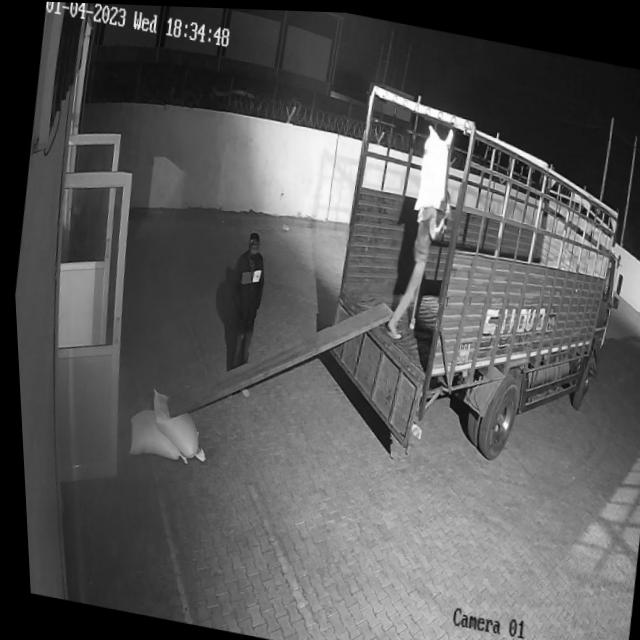sack: (139, 384, 210, 461), (408, 119, 457, 214), (119, 403, 190, 465)
